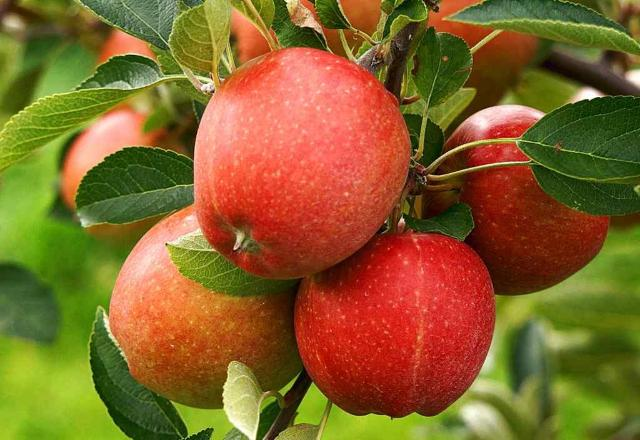Apple: (194, 48, 411, 279), (109, 206, 302, 409), (296, 235, 495, 417), (424, 166, 609, 295), (61, 108, 158, 208)
